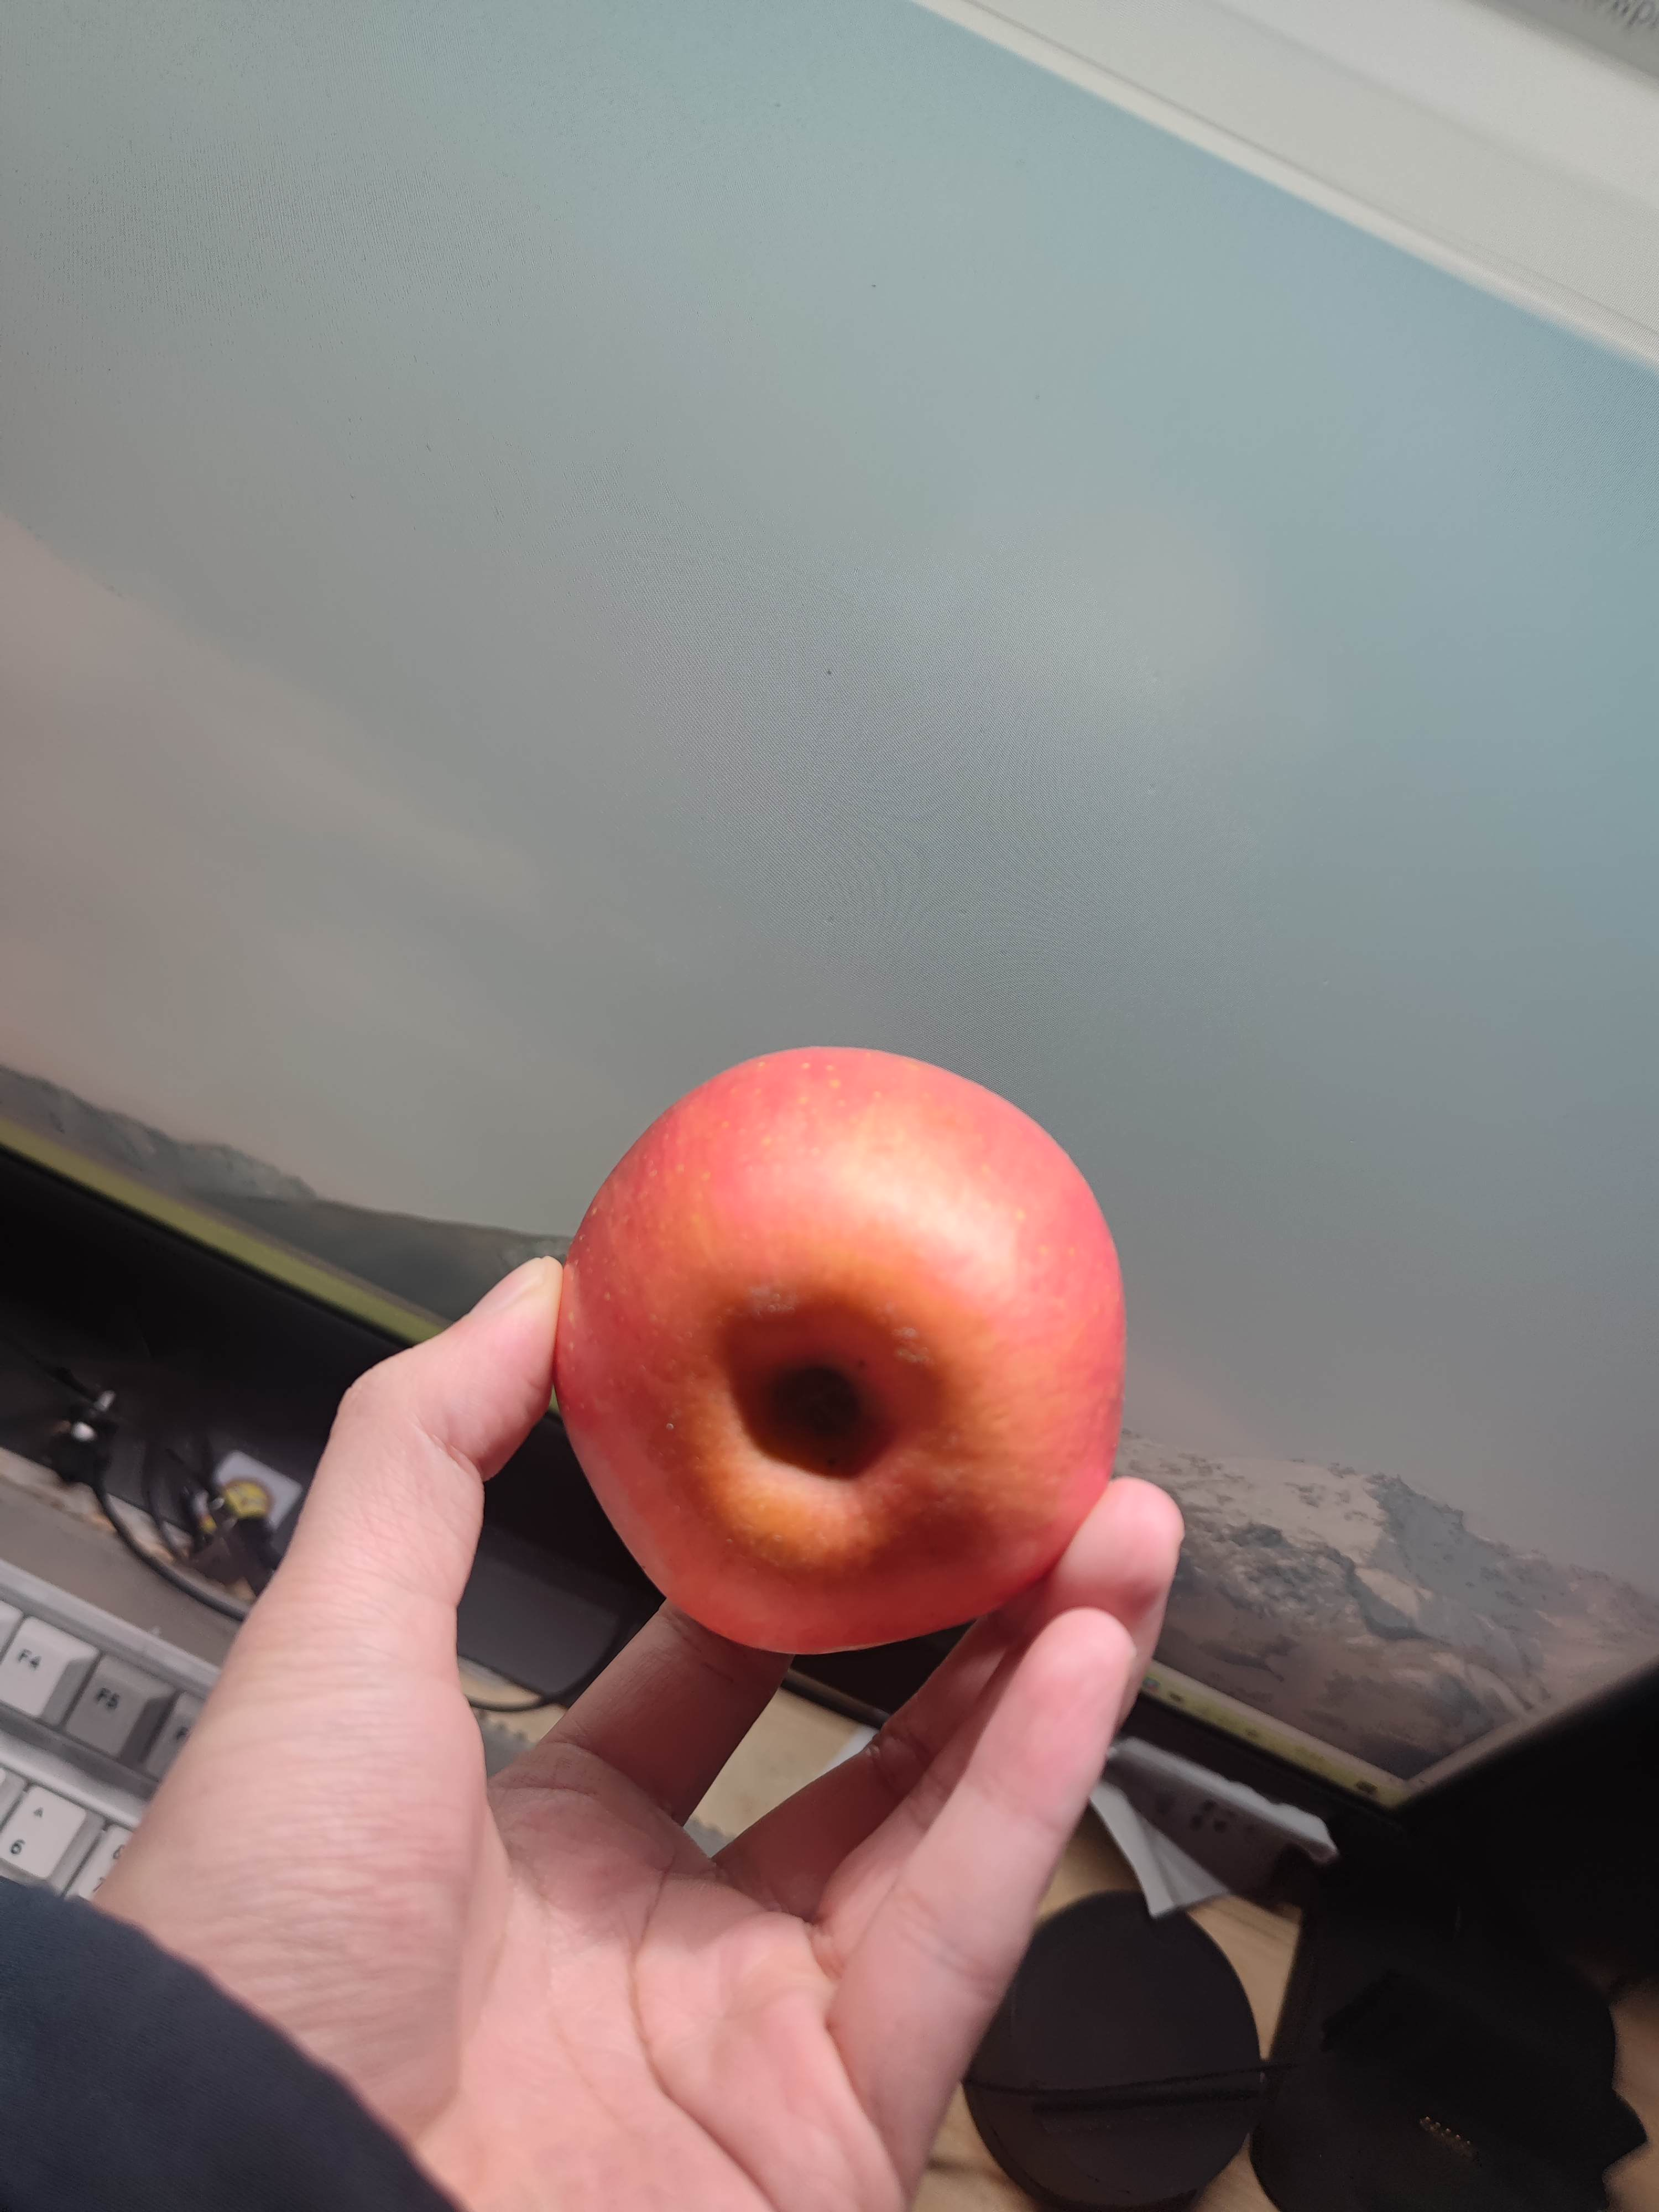apple: (551, 1042, 1131, 1665)
